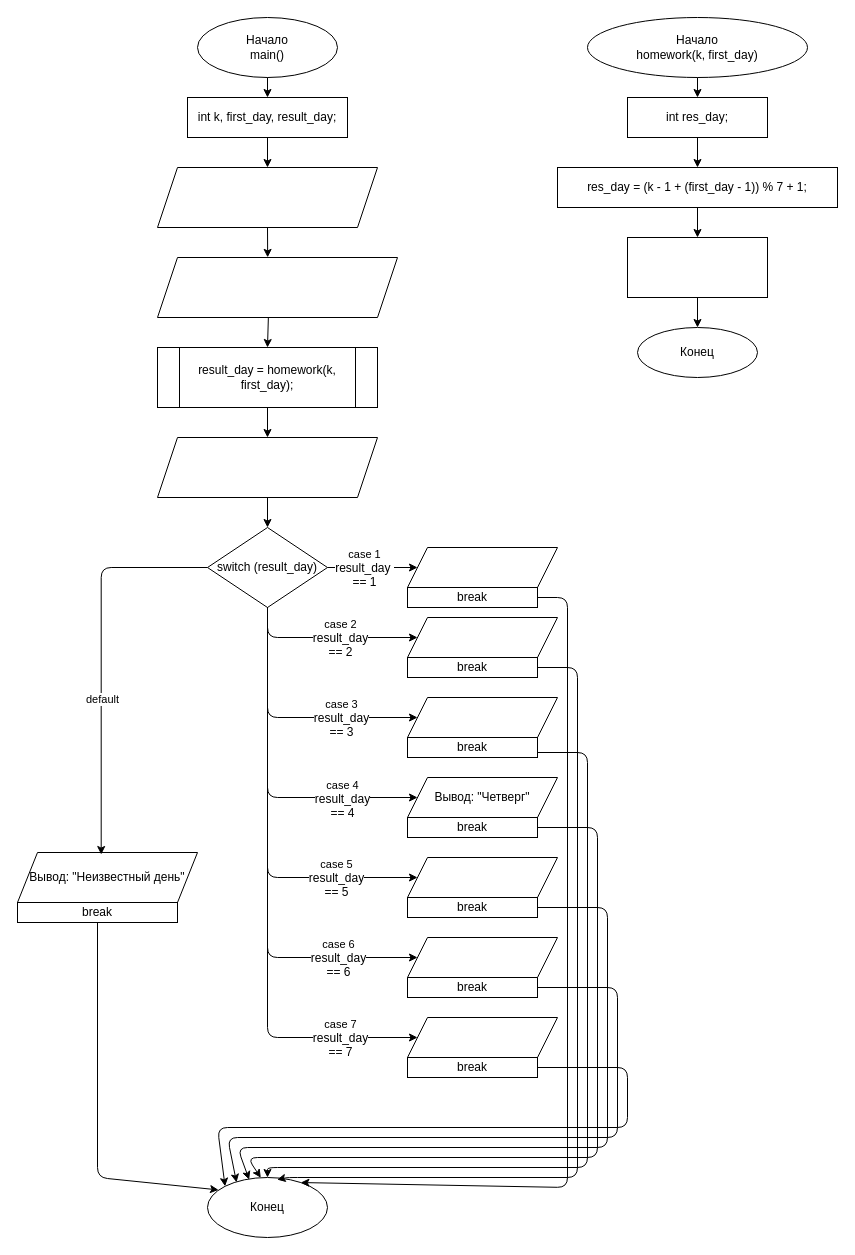
Image size: 855x1255. Some labels were removed from this diagram. Here are the shapes that lost their labels. From the top down, the centre of each, then its label:
(x=267, y=197): Вывод: "Введите номер дня..." Ввод: k
(x=277, y=287): Вывод: "Каким днём недели было 1 января ?..." Ввод: first_day
(x=697, y=267): return res_day;
(x=267, y=467): Вывод: "%d-й день года — это "
(x=482, y=567): Вывод: "Понедельник"
(x=482, y=637): Вывод: "Вторник"
(x=482, y=717): Вывод: "Среда"
(x=482, y=877): Вывод: "Пятница"
(x=482, y=957): Вывод: "Суббота"
(x=482, y=1037): Вывод: "Воскресенье"
